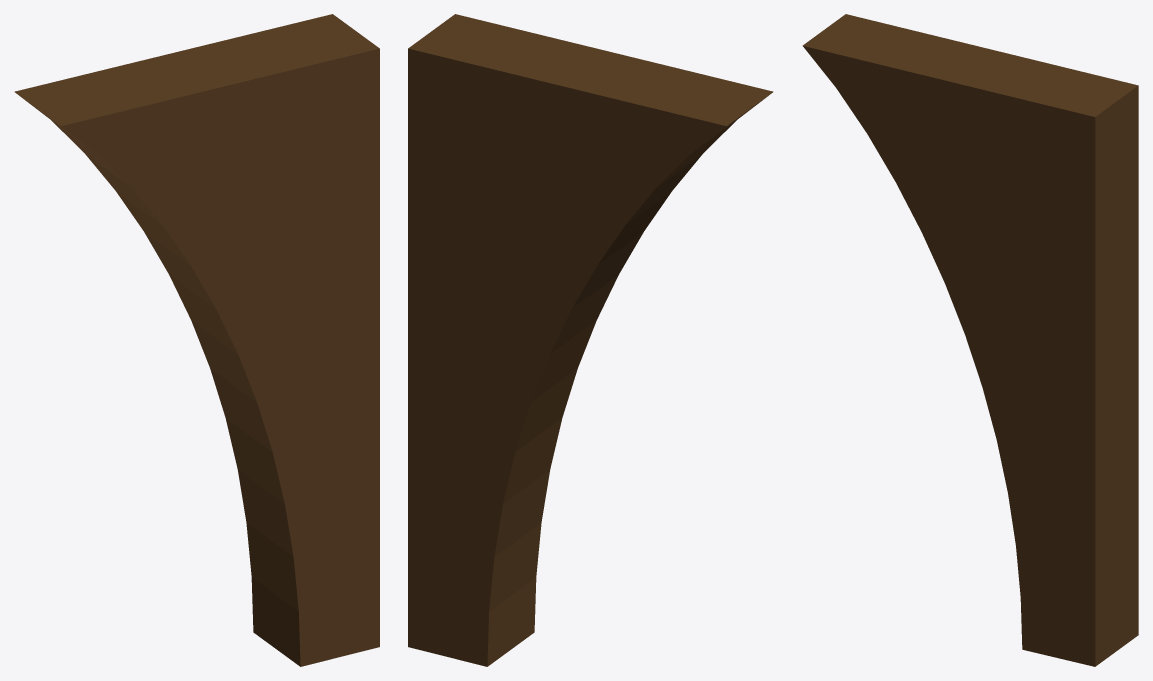
Rendered from Arc-Atl.fbx.
3 renders of one model, left to right at view 1: azimuth 30°, elevation 25°; view 2: azimuth 150°, elevation 25°; view 3: azimuth 330°, elevation 25°, orthographic. The views are drawn at different scales.
Visible parts, largest first — view 1: Arc; view 2: Arc; view 3: Arc.
Boxes of the visible parts, x1,y1,x2,y2 form: Arc: [14, 14, 379, 666]; Arc: [408, 14, 773, 666]; Arc: [802, 14, 1138, 666].
Bounding box in the file's own units: 39 × 70.06 × 10.
